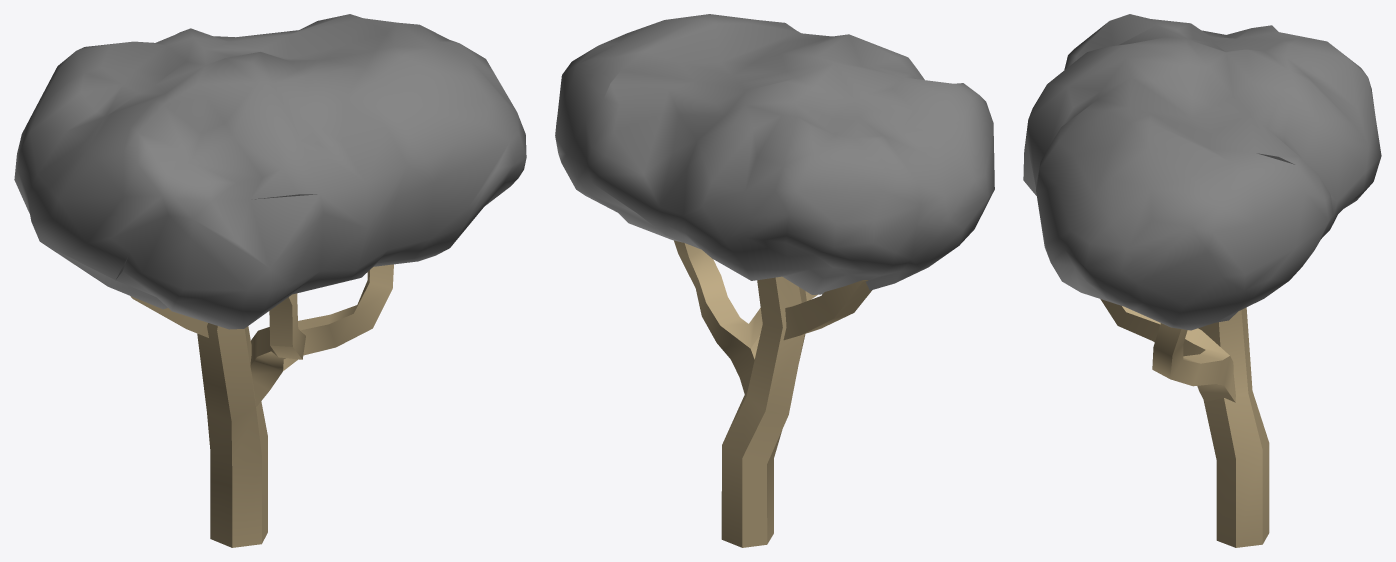
The model's file is Arbol.fbx.
3 renders of one model, left to right at view 1: azimuth 30°, elevation 25°; view 2: azimuth 150°, elevation 25°; view 3: azimuth 270°, elevation 25°, orthographic. The views are drawn at different scales.
Visible parts, largest first — view 1: Arbol; view 2: Arbol; view 3: Arbol.
Boxes of the visible parts, left/top/right/bottom form: Arbol: left=14, top=14, right=526, bottom=547; Arbol: left=555, top=14, right=994, bottom=547; Arbol: left=1023, top=14, right=1381, bottom=547.
Bounding box in the file's own units: 107 × 117 × 80.26.
